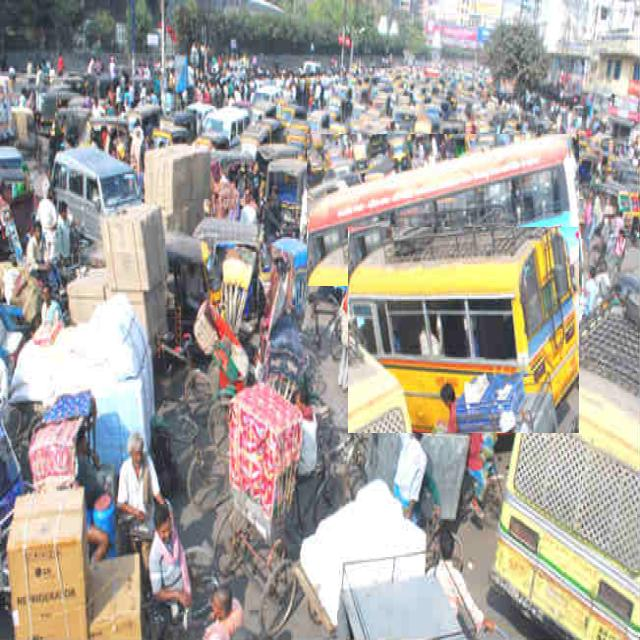bus: (349, 228, 579, 433), (308, 135, 579, 286)
